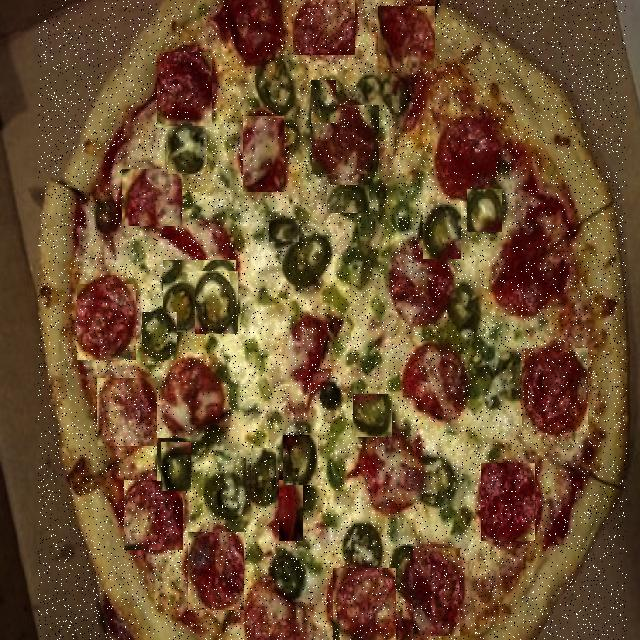Jalapenoes: (163, 260, 236, 332), (422, 462, 471, 534), (470, 348, 518, 406), (195, 272, 238, 336), (423, 204, 461, 259), (284, 241, 329, 284), (168, 126, 207, 174), (283, 435, 318, 485), (256, 62, 297, 104), (354, 394, 394, 437), (268, 548, 302, 598), (209, 474, 245, 521), (142, 312, 177, 360), (468, 189, 503, 232), (161, 442, 191, 491), (211, 475, 245, 518), (357, 74, 404, 105), (251, 448, 276, 506), (348, 526, 380, 571), (157, 438, 190, 481), (450, 288, 482, 330), (246, 455, 276, 499), (327, 185, 369, 213), (311, 80, 336, 123), (269, 220, 299, 242), (392, 543, 409, 581)
Pepperoni: (492, 230, 561, 314), (522, 348, 588, 431), (312, 105, 379, 174), (333, 568, 396, 640), (77, 284, 136, 360), (439, 119, 496, 196), (188, 532, 244, 610), (414, 548, 462, 636), (481, 463, 535, 541), (158, 52, 214, 127), (124, 480, 183, 550), (97, 378, 157, 446), (364, 436, 420, 507), (378, 6, 435, 68), (122, 169, 182, 226), (293, 0, 355, 55), (168, 367, 222, 425), (228, 0, 280, 60), (243, 116, 284, 192), (249, 581, 301, 640), (279, 480, 303, 541)
Pizza: (38, 0, 627, 640)
